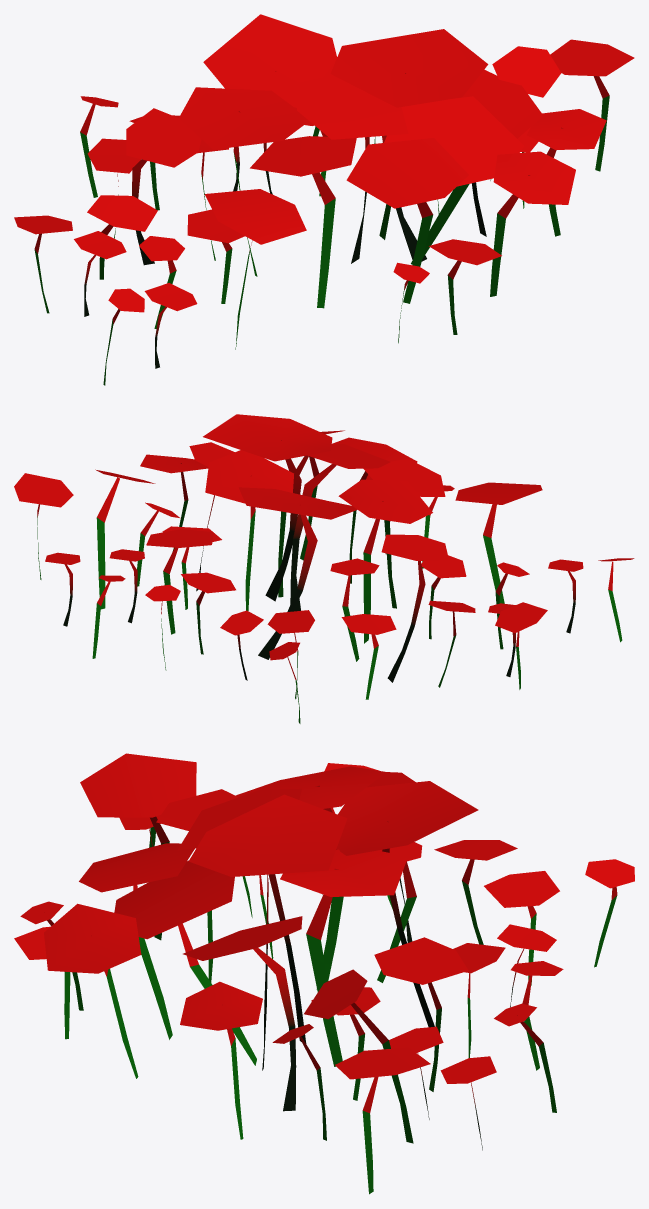
File: vegetation_2.fbx
The picture shows the model from 3 angles, top to bottom: view 1: azimuth 30°, elevation 25°; view 2: azimuth 150°, elevation 25°; view 3: azimuth 270°, elevation 25°; orthographic projection. The views are drawn at different scales.
Visible parts, largest first — view 1: _e4eb_Var3_; view 2: _e4eb_Var3_; view 3: _e4eb_Var3_.
Boxes of the visible parts, left/top/right/bottom form: _e4eb_Var3_: left=14, top=14, right=634, bottom=385; _e4eb_Var3_: left=14, top=414, right=634, bottom=723; _e4eb_Var3_: left=14, top=753, right=634, bottom=1194.
Size of the model in its own units: 74.63 by 23.29 by 56.36.
